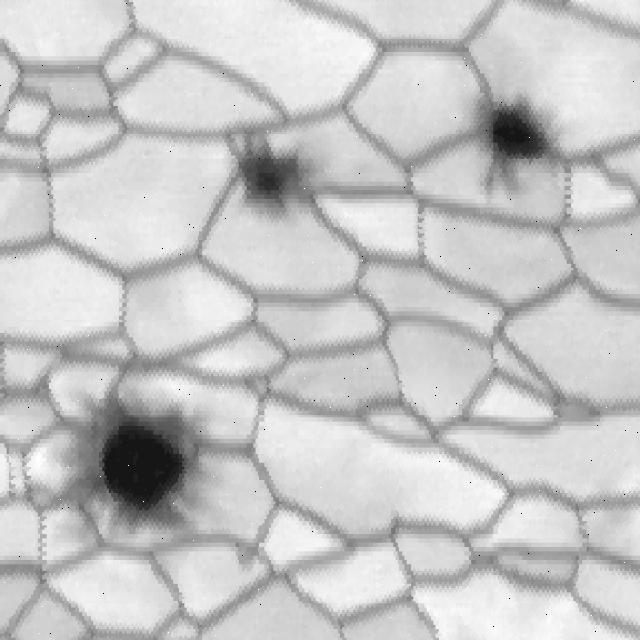good_void: (50, 388, 230, 547), (214, 124, 316, 245), (465, 88, 567, 194)
